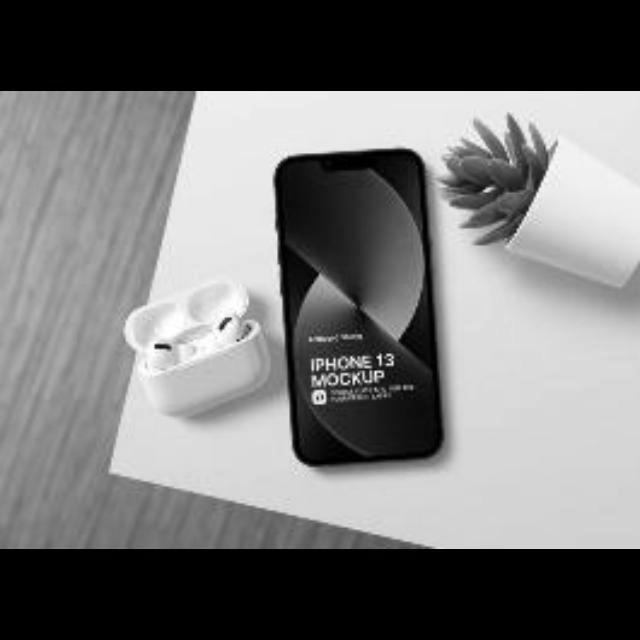fake: (281, 150, 447, 464)
